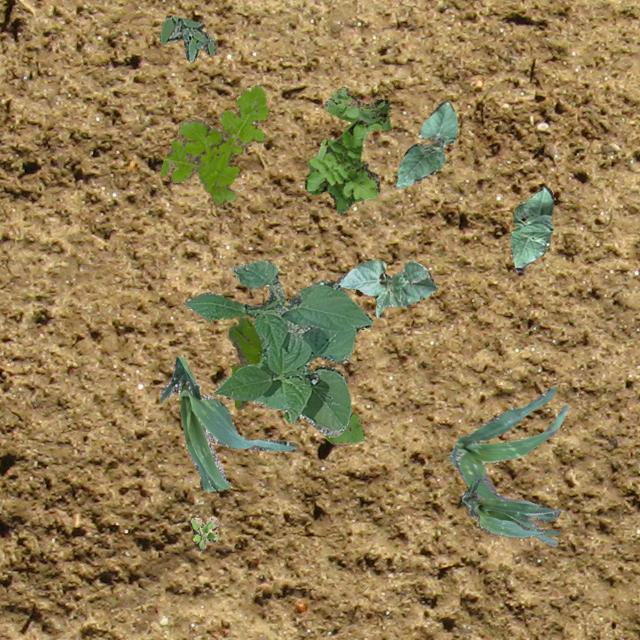crop: (182, 258, 372, 436), (448, 386, 568, 546), (158, 356, 296, 490), (460, 474, 560, 536), (336, 260, 436, 316), (394, 100, 456, 188), (508, 185, 552, 272)
weed: (228, 316, 364, 444), (160, 82, 268, 204), (304, 85, 389, 214), (158, 15, 216, 60), (190, 516, 218, 548)
